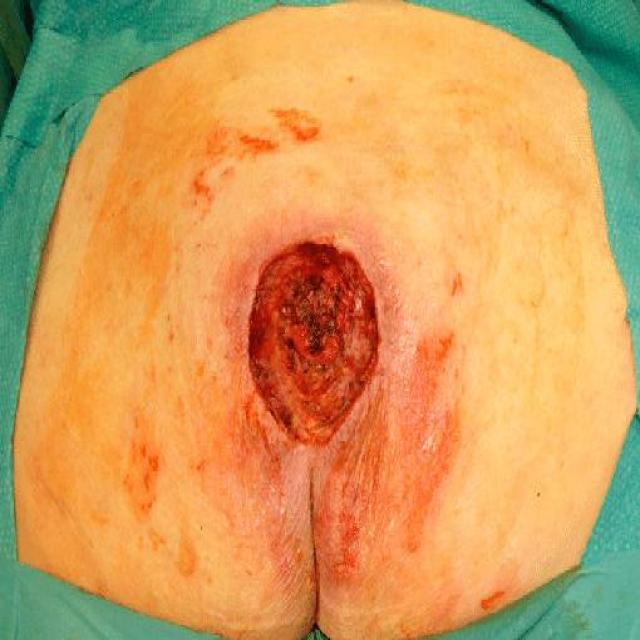stage-4: (249, 243, 377, 445)
